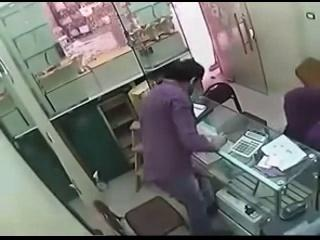Normal: (139, 58, 228, 233)
